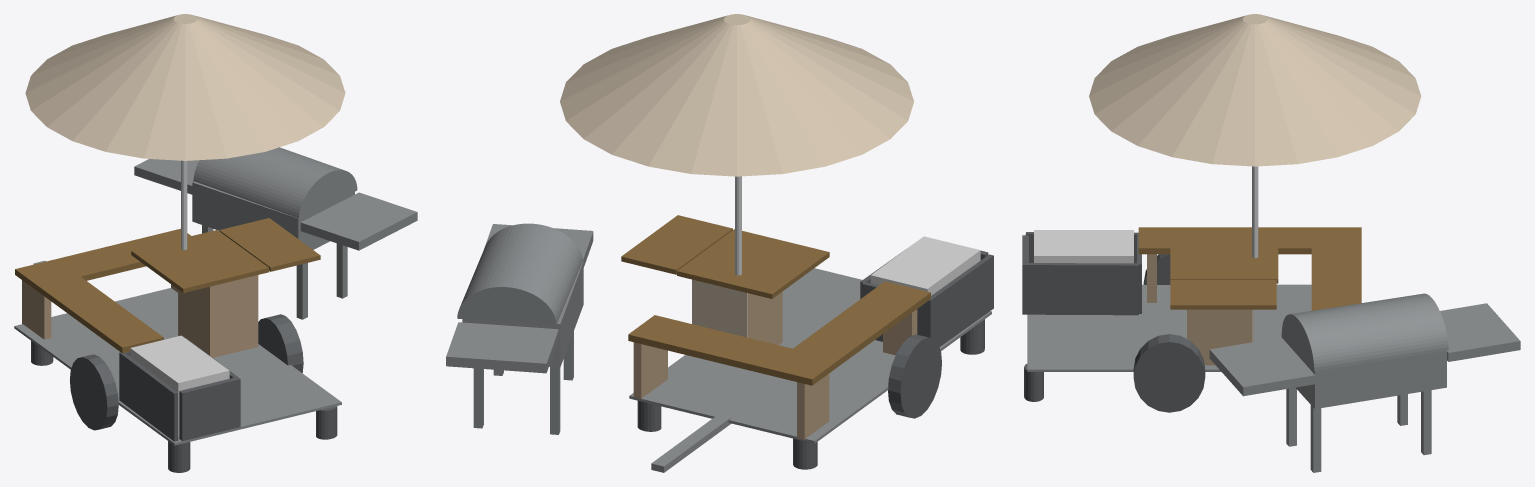
Rendered from kuisti.glb.
3 views of the same model, side by side, from view 1: azimuth 30°, elevation 25°; view 2: azimuth 150°, elevation 25°; view 3: azimuth 270°, elevation 25° (orthographic). The views are drawn at different scales.
Visible parts, largest first — view 1: Mesh_Mesh_head_geo.001_lambert2SG.001; view 2: Mesh_Mesh_head_geo.001_lambert2SG.001; view 3: Mesh_Mesh_head_geo.001_lambert2SG.001.
Part boxes in pixels (x1=…): Mesh_Mesh_head_geo.001_lambert2SG.001: x1=14, y1=14, x2=417, y2=472; Mesh_Mesh_head_geo.001_lambert2SG.001: x1=446, y1=14, x2=993, y2=472; Mesh_Mesh_head_geo.001_lambert2SG.001: x1=1022, y1=14, x2=1520, y2=472.
Bounding box in the file's own units: 263 × 242 × 300.
